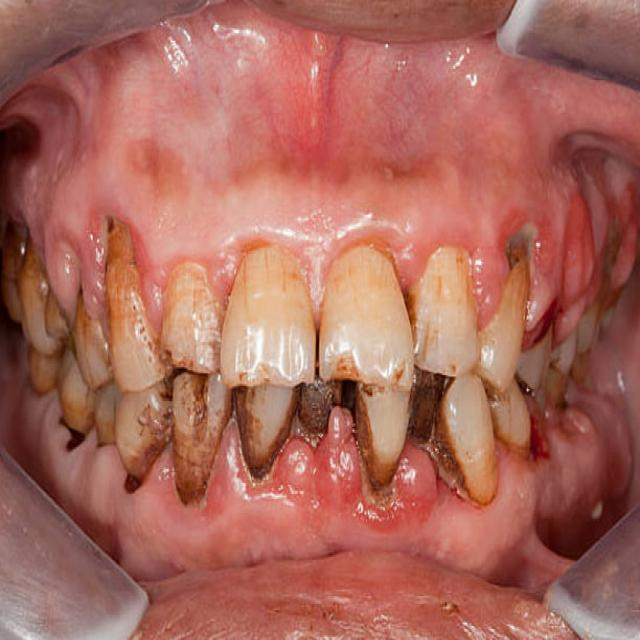caries: (53, 414, 93, 461), (112, 464, 145, 506)
